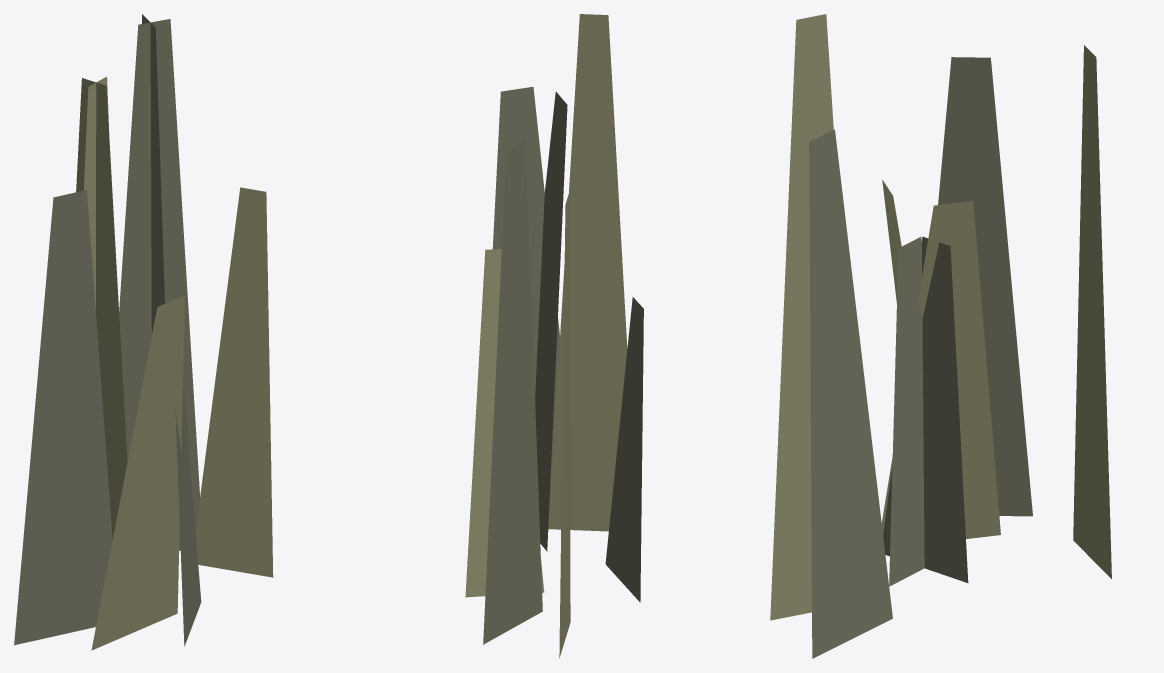
File: nong.dao@subadult__winter.glb
3 renders of one model, left to right at view 1: azimuth 30°, elevation 25°; view 2: azimuth 150°, elevation 25°; view 3: azimuth 270°, elevation 25°, orthographic. The views are drawn at different scales.
Parts seen in each view (by area): view 1: nong.dao@subadult__winter; view 2: nong.dao@subadult__winter; view 3: nong.dao@subadult__winter.
Part boxes in pixels (x1,y1,x2,y2): nong.dao@subadult__winter: (14, 14, 273, 650); nong.dao@subadult__winter: (465, 14, 643, 658); nong.dao@subadult__winter: (770, 14, 1111, 658).
Bounding box in the file's own units: 0.3454 × 0.5597 × 0.3268.
